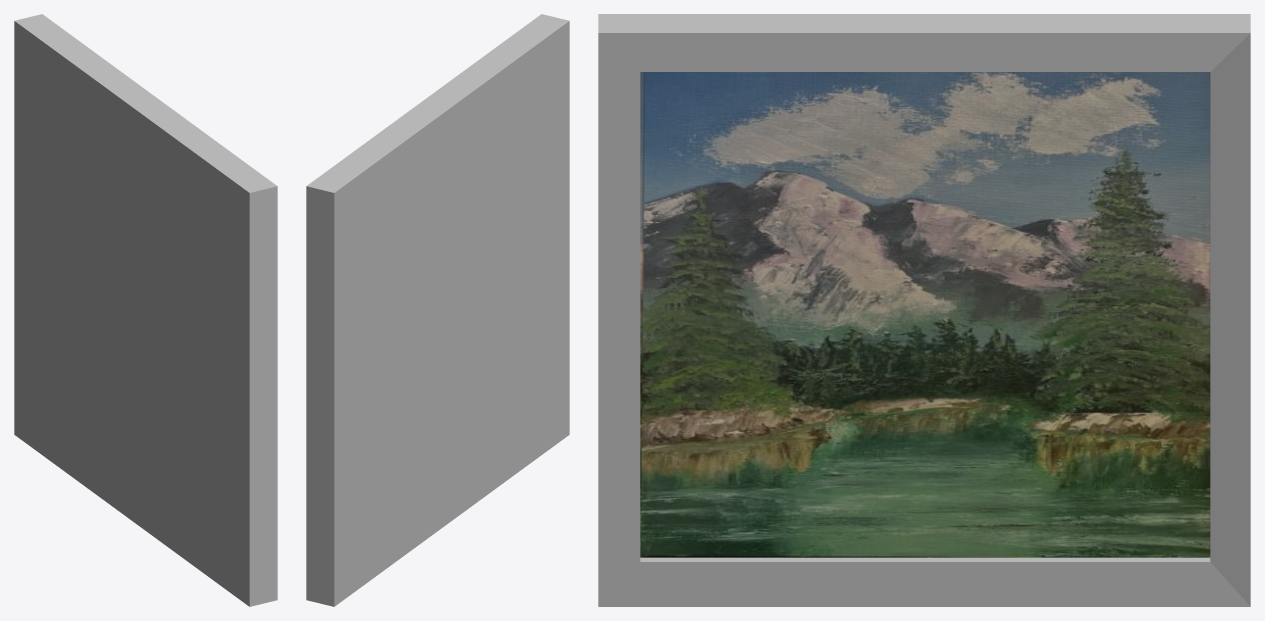
Rendered from mountains.fbx.
3 renders of one model, left to right at view 1: azimuth 30°, elevation 25°; view 2: azimuth 150°, elevation 25°; view 3: azimuth 270°, elevation 25°, orthographic. The views are drawn at different scales.
Visible parts, largest first — view 1: Cube.001; view 2: Cube.001; view 3: Cube, Cube.001.
Part boxes in pixels (left/top/right/bottom): Cube.001: left=14, top=14, right=277, bottom=606; Cube.001: left=306, top=14, right=569, bottom=606; Cube: left=640, top=72, right=1210, bottom=557; Cube.001: left=598, top=14, right=1250, bottom=606.
Bounding box in the file's own units: 14.14 × 200 × 206.
